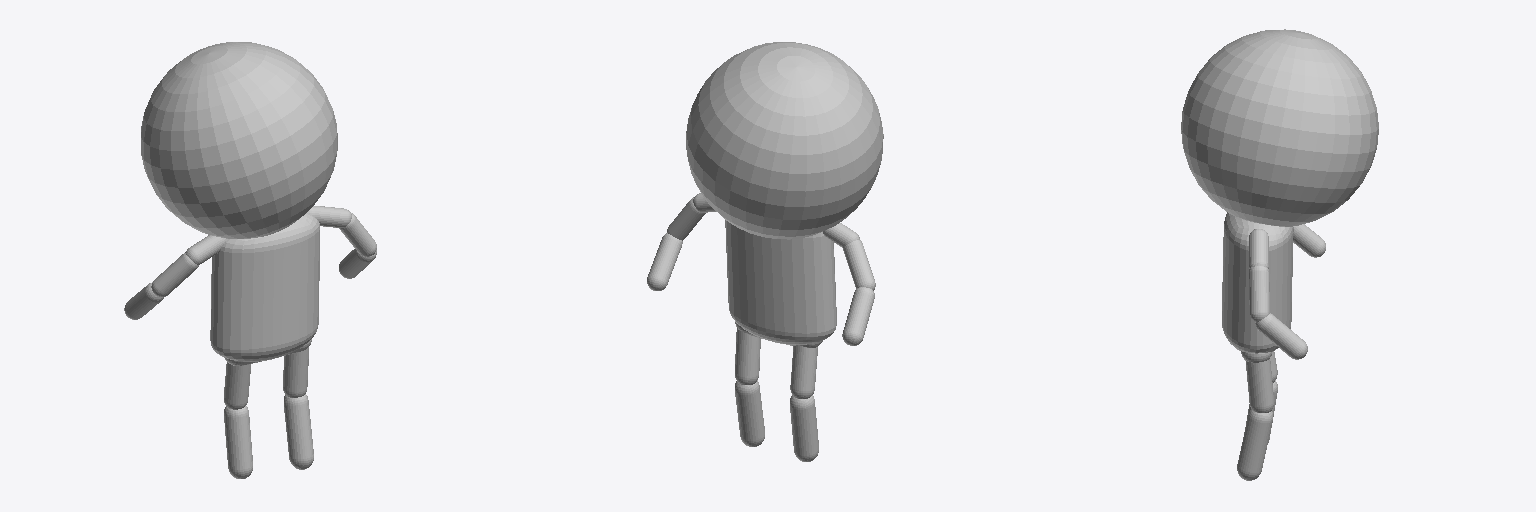
The model's file is Stickman_000074.obj.
3 renders of one model, left to right at view 1: azimuth 30°, elevation 25°; view 2: azimuth 150°, elevation 25°; view 3: azimuth 270°, elevation 25°, orthographic.
Visible parts, largest first — view 1: Head_Sphere.001, Body_Roundcube.002, LowerLegLeft_Roundcube.013, LowerLegRight_Roundcube.011, UpperLegLeft_Roundcube.012, UpperLegRight_Roundcube.010, UpperArmRight_Roundcube.015, UpperArmLeft_Roundcube.018, LowerArmRight_Roundcube.016, ShoulderLeft_Roundcube.017, ShoulderRight_Roundcube.014, LowerArmLeft_Roundcube.019; view 2: Head_Sphere.001, Body_Roundcube.002, LowerLegRight_Roundcube.011, LowerLegLeft_Roundcube.013, UpperLegRight_Roundcube.010, LowerArmRight_Roundcube.016, UpperLegLeft_Roundcube.012, LowerArmLeft_Roundcube.019, UpperArmRight_Roundcube.015, UpperArmLeft_Roundcube.018; view 3: Head_Sphere.001, Body_Roundcube.002, LowerLegLeft_Roundcube.013, UpperLegLeft_Roundcube.012, LowerArmLeft_Roundcube.019, UpperArmLeft_Roundcube.018, LowerArmRight_Roundcube.016, ShoulderLeft_Roundcube.017.
Part boxes in pixels (x1,y1,x2,y2): Head_Sphere.001: (141, 42, 337, 238); Body_Roundcube.002: (210, 212, 319, 361); LowerLegLeft_Roundcube.013: (284, 394, 313, 469); LowerLegRight_Roundcube.011: (224, 406, 252, 478); UpperLegLeft_Roundcube.012: (283, 347, 308, 397); UpperLegRight_Roundcube.010: (224, 362, 250, 409); UpperArmRight_Roundcube.015: (151, 253, 198, 296); UpperArmLeft_Roundcube.018: (339, 212, 376, 256); LowerArmRight_Roundcube.016: (124, 282, 163, 319); ShoulderLeft_Roundcube.017: (308, 206, 351, 227); ShoulderRight_Roundcube.014: (185, 235, 227, 264); LowerArmLeft_Roundcube.019: (339, 249, 376, 278); Head_Sphere.001: (686, 42, 883, 239); Body_Roundcube.002: (725, 220, 836, 344); LowerLegRight_Roundcube.011: (790, 395, 818, 461); LowerLegLeft_Roundcube.013: (735, 380, 764, 446); UpperLegRight_Roundcube.010: (790, 345, 817, 398); LowerArmRight_Roundcube.016: (842, 287, 874, 345); UpperLegLeft_Roundcube.012: (735, 328, 760, 384); LowerArmLeft_Roundcube.019: (647, 233, 682, 290); UpperArmRight_Roundcube.015: (843, 240, 875, 290); UpperArmLeft_Roundcube.018: (667, 197, 705, 240); Head_Sphere.001: (1181, 29, 1378, 226); Body_Roundcube.002: (1222, 212, 1293, 353); LowerLegLeft_Roundcube.013: (1237, 409, 1272, 480); UpperLegLeft_Roundcube.012: (1246, 359, 1273, 412); LowerArmLeft_Roundcube.019: (1255, 313, 1307, 359); UpperArmLeft_Roundcube.018: (1249, 266, 1269, 322); LowerArmRight_Roundcube.016: (1293, 224, 1325, 257); ShoulderLeft_Roundcube.017: (1249, 229, 1268, 268).
Size of the model in its own units: 7.28 by 12.96 by 5.57.